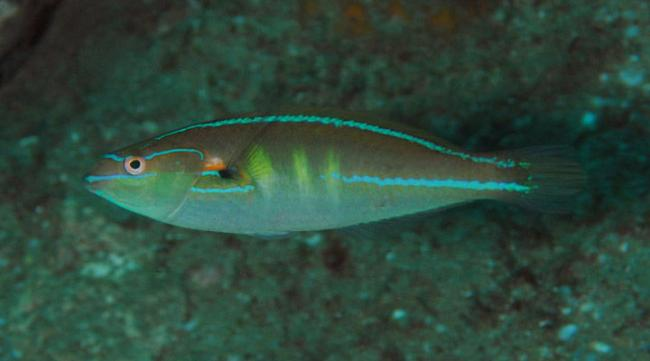fish: (82, 104, 588, 237)
